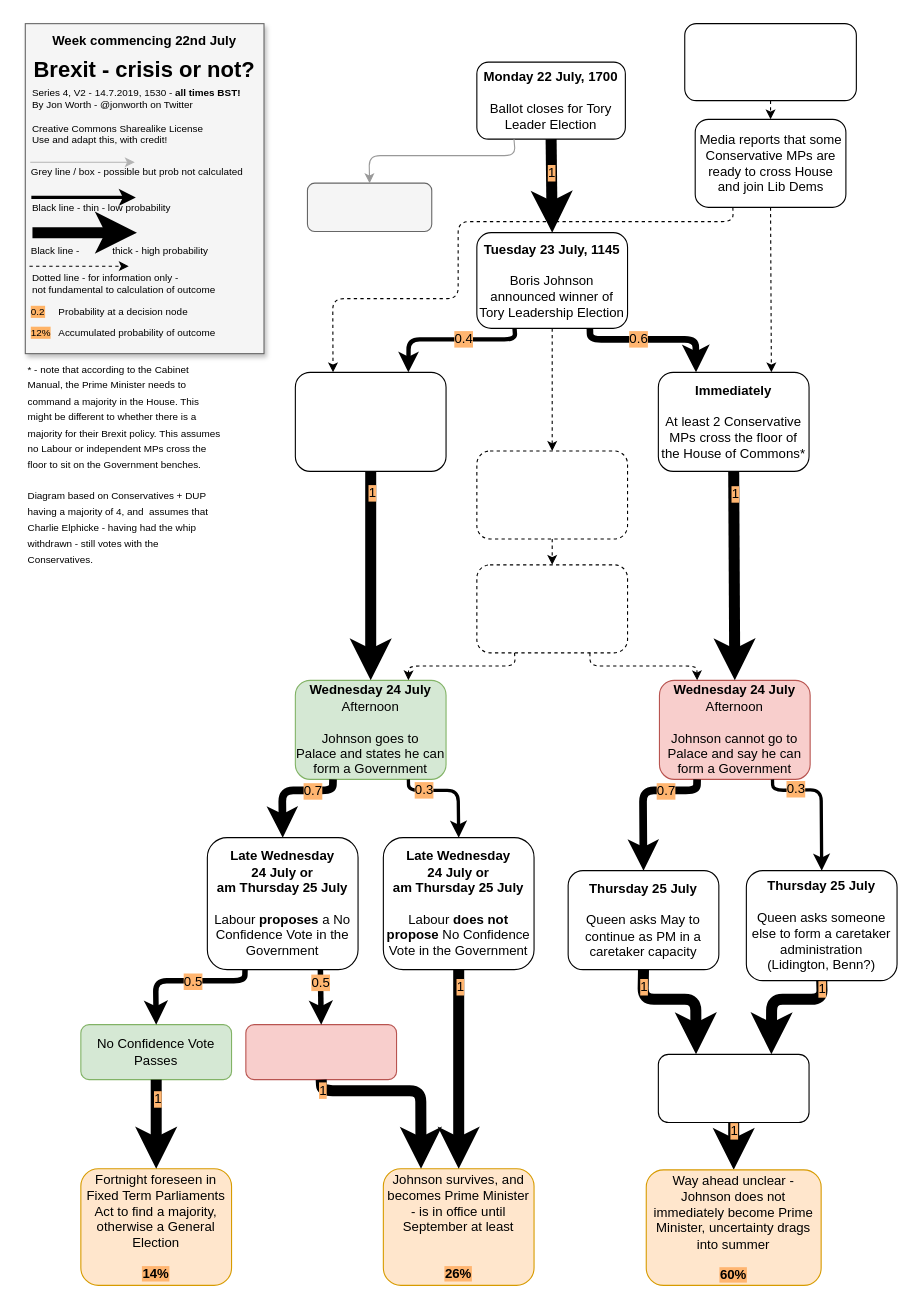
Image size: 916x1305. Some labels were removed from this diagram. Each missing label, with the centre of its shape:
"Consultations to find a way forward, Commons recess postponed" goes at (733,1088).
"Immediately No or 1 Conservative MP crosses the floor of the House of Commons*" goes at (370,421).
"Jeremy Hunt announced winner" goes at (369,207).
"Monday 22 July, 1600 Result of Liberal Democrat Leadership Election" goes at (770,62).
"No Confidence Vote Fails" goes at (321,1052).
"Wednesday 24 July Afternoon May goes the the Palace and tenders resignation" goes at (552,608).
"Wednesday 24 July Midday Final PMQs for Theresa May" goes at (552,494).
